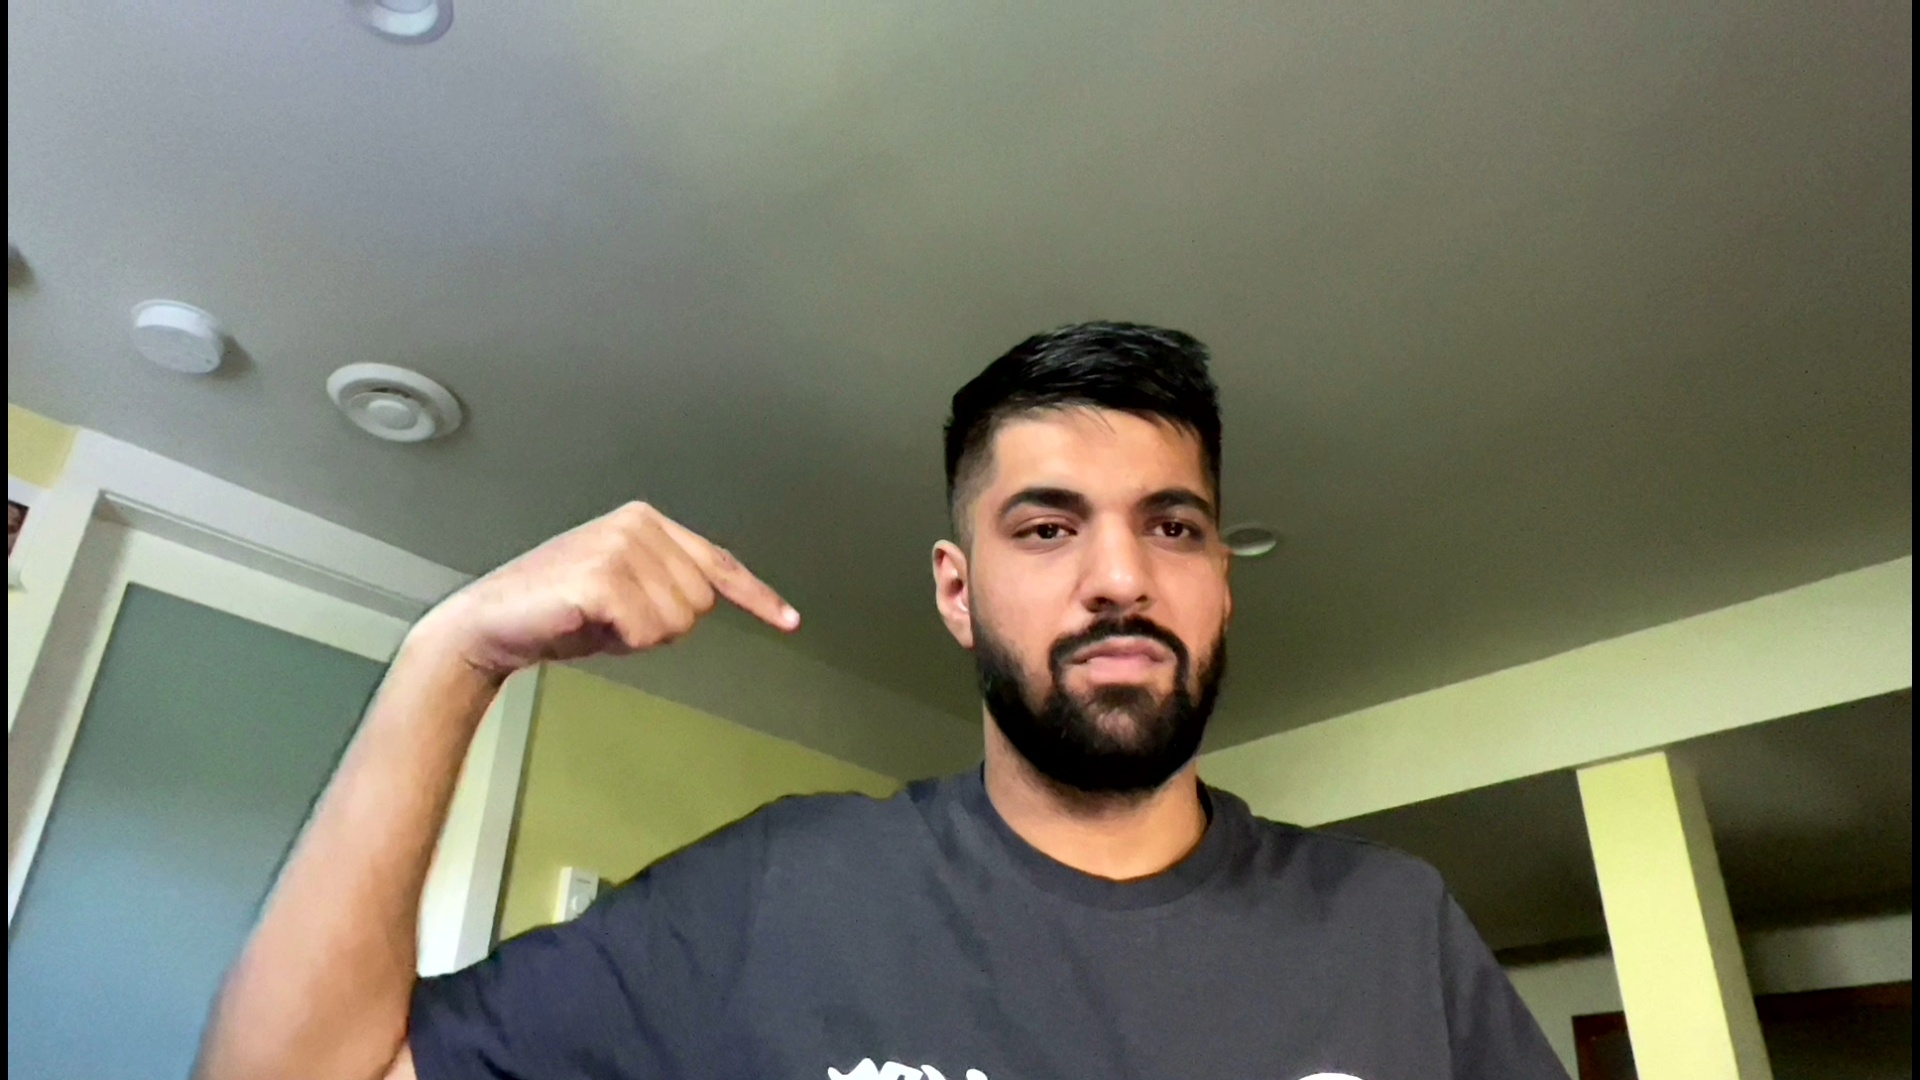Vikrant: (480, 469, 815, 691)
